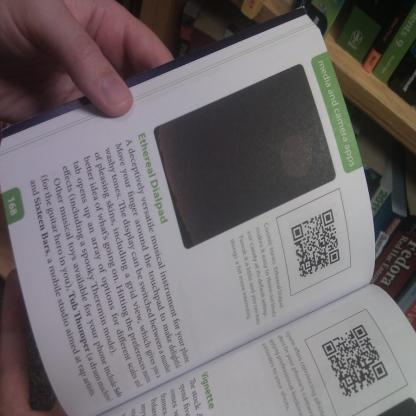book: (0, 5, 416, 416), (114, 0, 416, 331), (290, 0, 416, 111)
